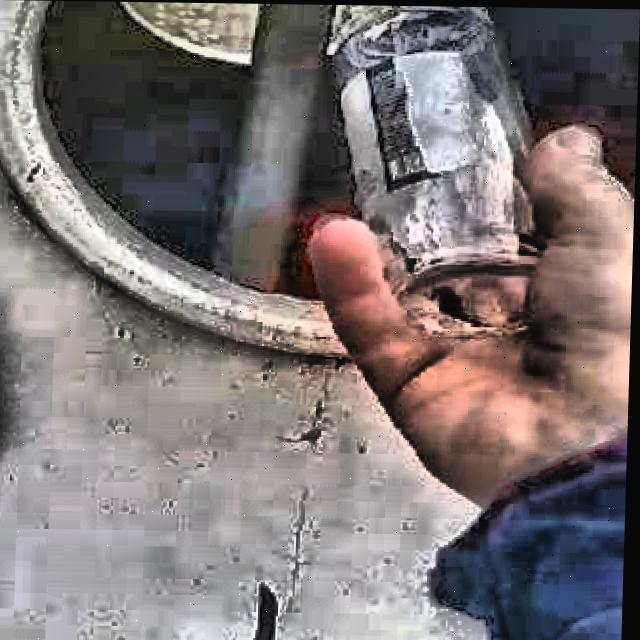glass: (333, 4, 535, 335)
